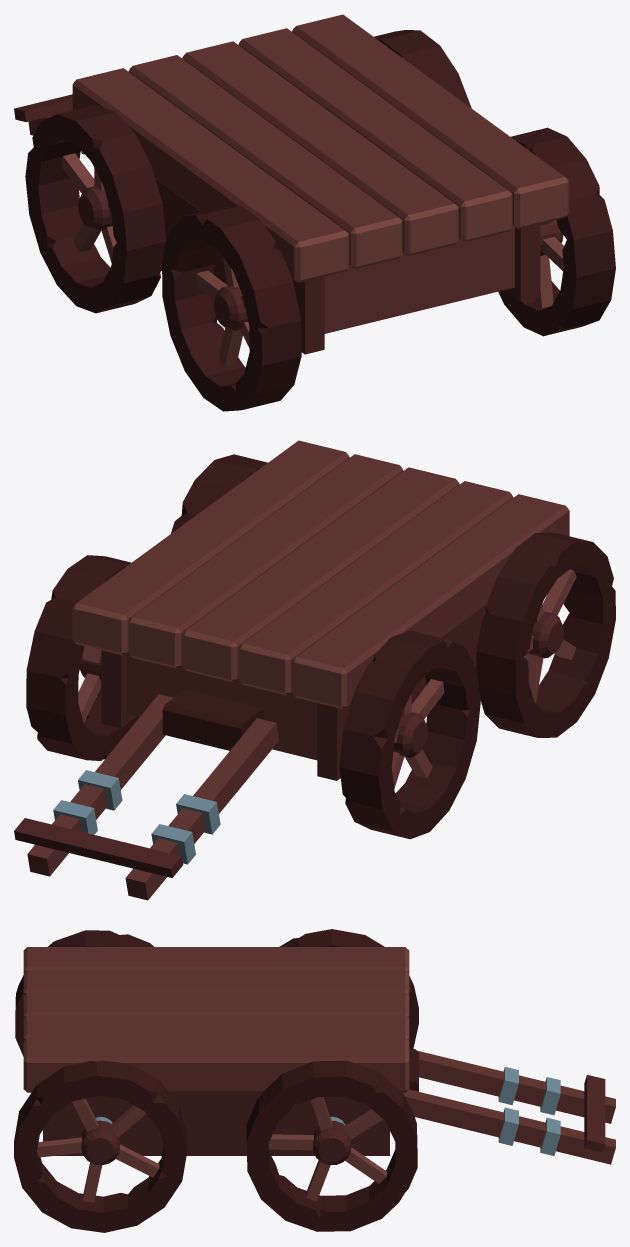
The model's file is Cart.fbx.
3 renders of one model, top to bottom at view 1: azimuth 30°, elevation 25°; view 2: azimuth 150°, elevation 25°; view 3: azimuth 270°, elevation 25°, orthographic. The views are drawn at different scales.
Parts seen in each view (by area): view 1: Cart; view 2: Cart; view 3: Cart.
Part boxes in pixels (box(x1,y1,x2,y2)): Cart: box(14, 14, 615, 411); Cart: box(14, 440, 615, 900); Cart: box(14, 929, 615, 1232).
Bounding box in the file's own units: 1.8 × 3.12 × 0.9.
